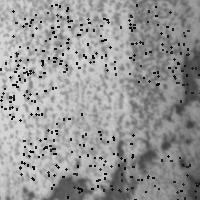pitted_surface: (1, 1, 184, 153), (10, 4, 68, 64), (60, 16, 120, 73), (129, 24, 186, 84), (19, 139, 79, 196), (44, 113, 100, 173), (77, 134, 132, 191), (4, 59, 55, 119), (128, 4, 187, 51), (102, 154, 161, 200), (0, 58, 44, 118), (102, 149, 153, 200), (166, 47, 200, 101), (174, 46, 200, 115), (37, 173, 95, 200), (167, 155, 200, 200)
